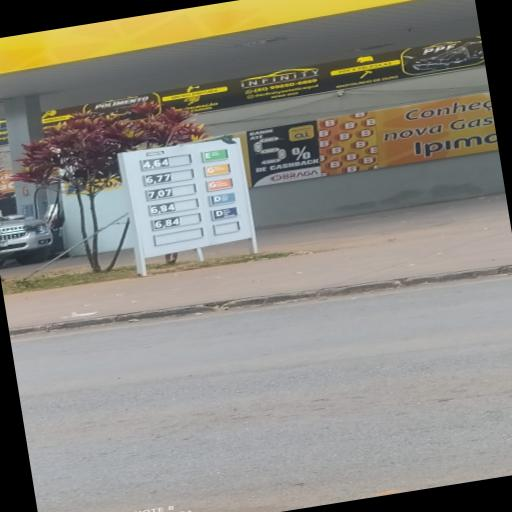S10: (208, 205, 239, 222)
S500: (208, 193, 234, 205)
placa: (123, 138, 250, 256)
preco: (151, 216, 181, 229), (147, 201, 176, 214)
